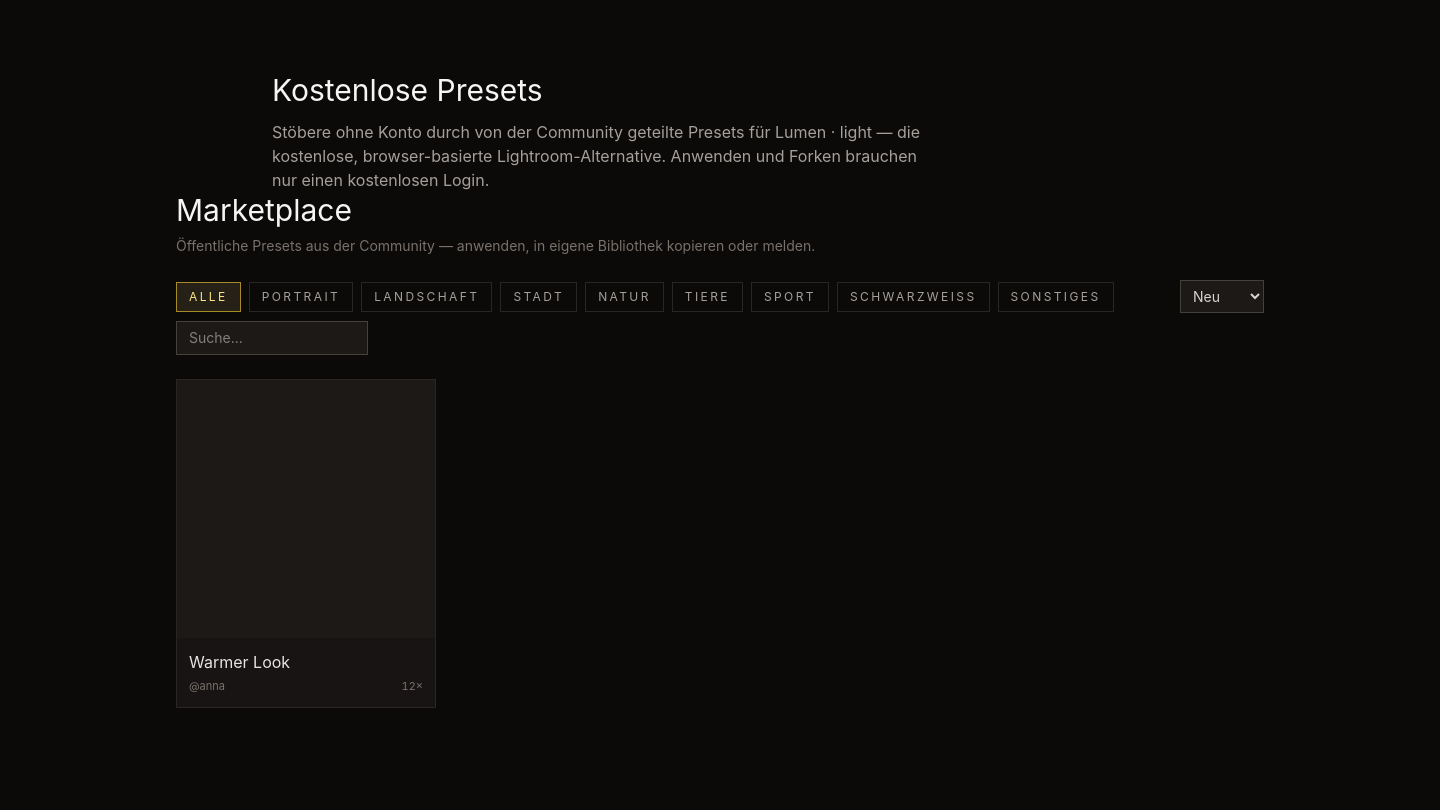
Test: Marketplace › Fork ruft API + zeigt Feedback
This screenshot has width=1440, height=810.
Click the button with test id "marketplace-card-p-x": click(306, 543) [176,379,436,708]
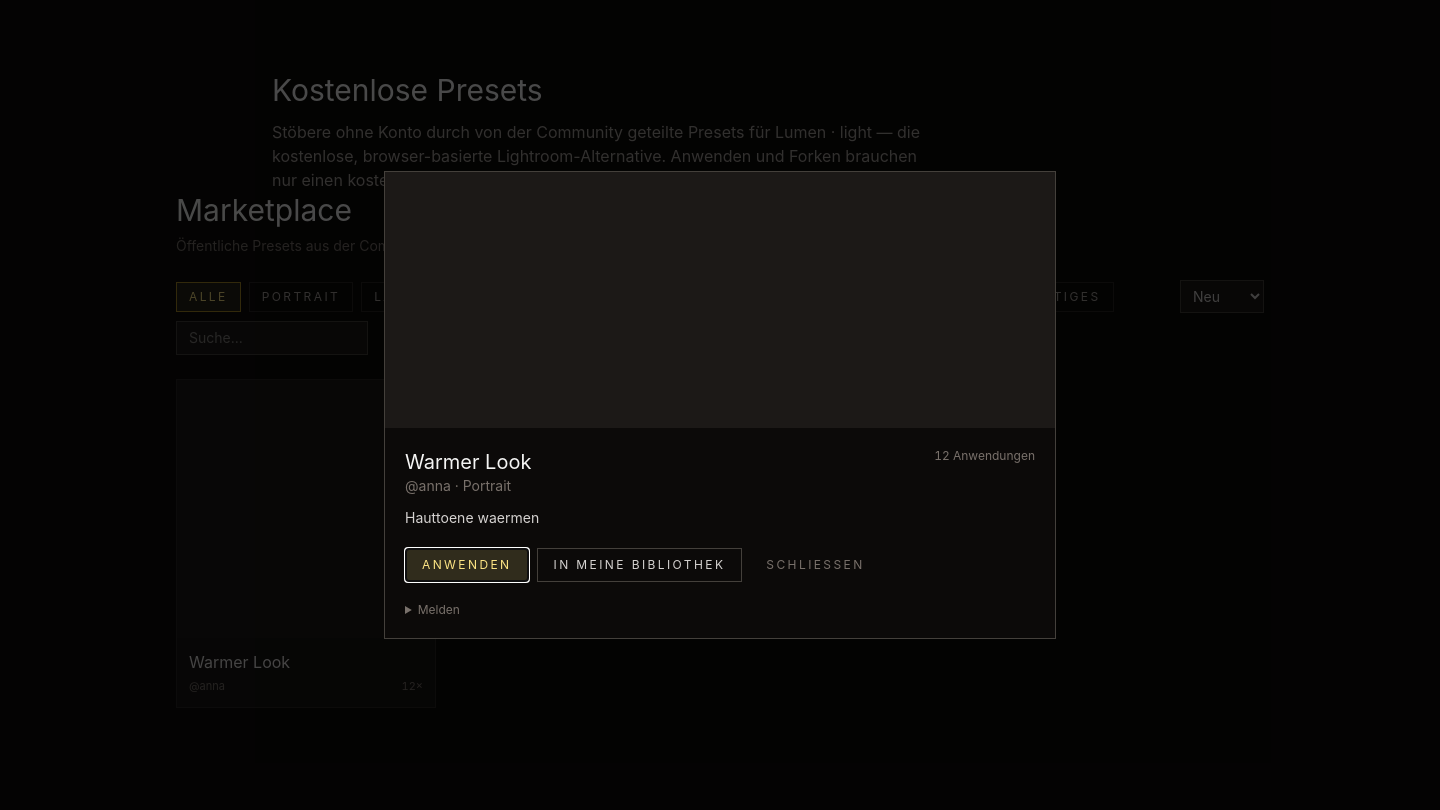
Click the button with test id "marketplace-fork": click(639, 565) [536,548,742,582]
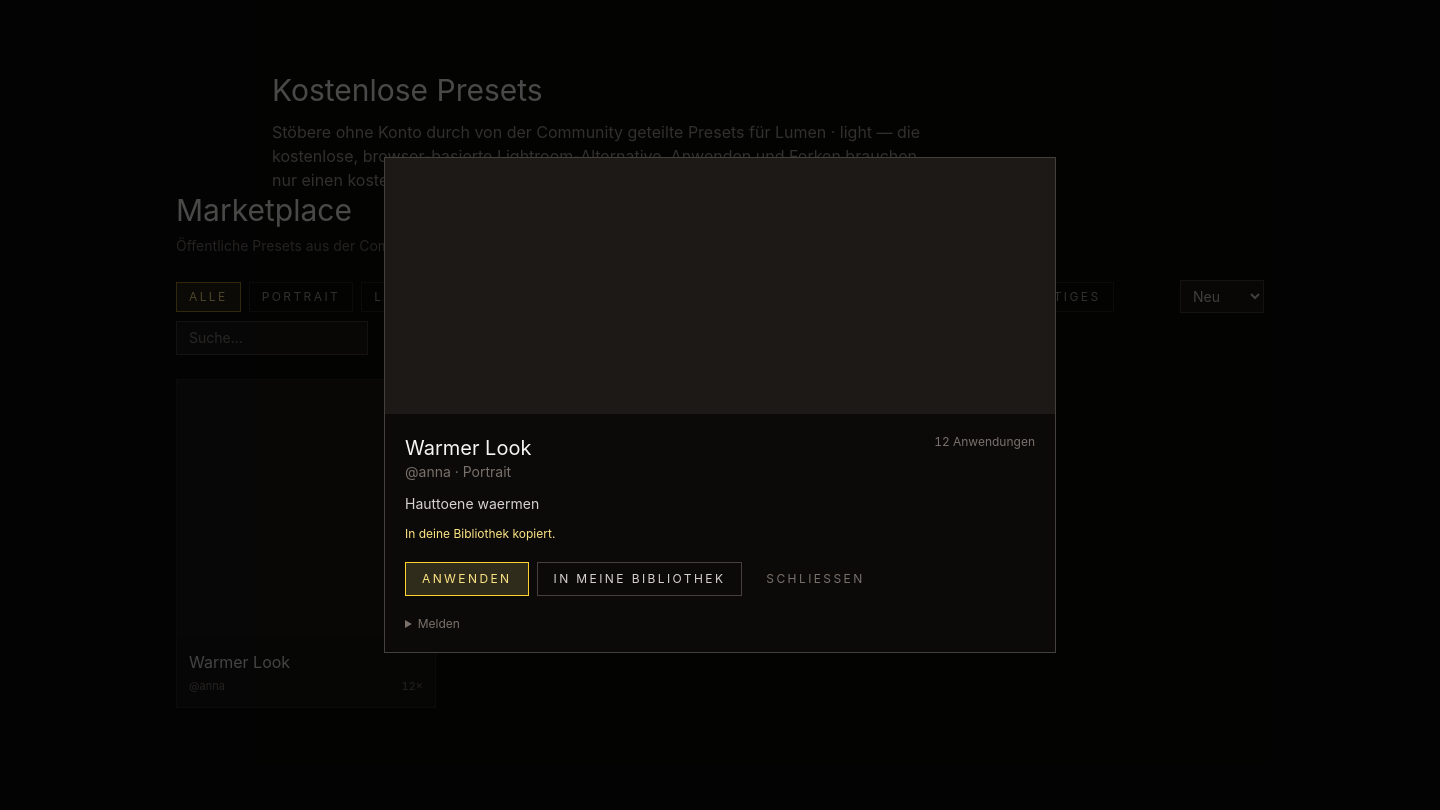
Check: the text "In deine Bibliothek kopiert." is shown, box [405,526,555,541]
